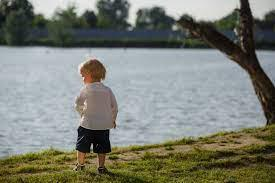child: (65, 55, 123, 176)
